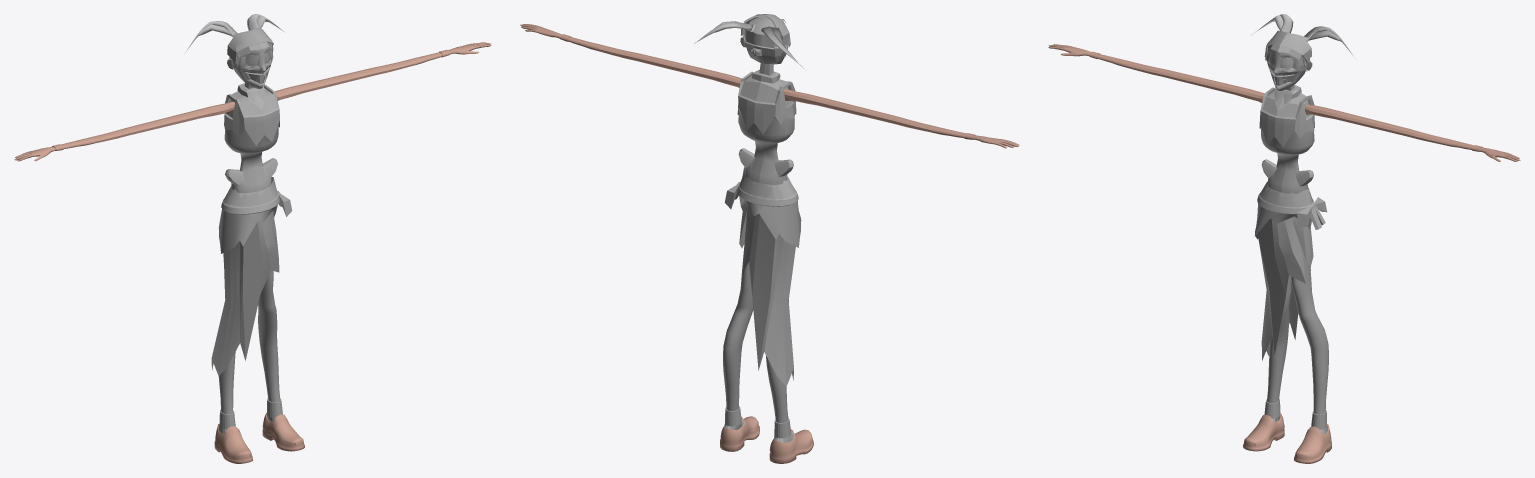
The model's file is MissC_Mixamo.fbx.
The picture shows the model from 3 angles, left to right: view 1: azimuth 30°, elevation 25°; view 2: azimuth 150°, elevation 25°; view 3: azimuth 330°, elevation 25°; orthographic projection. The views are drawn at different scales.
Parts seen in each view (by area): view 1: skirt, torso2, leftleg, head1, leftjhand1, leftjhand, MensBusinessShoes:shoeL, shoeR, rightleg; view 2: skirt, torso2, leftleg, leftjhand1, leftjhand, head1, rightleg, shoeR, MensBusinessShoes:shoeL; view 3: skirt, torso2, leftleg, head1, leftjhand, leftjhand1, rightleg, shoeR, MensBusinessShoes:shoeL.
Boxes of the visible parts, x1,y1,x2,y2 form: skirt: (211,177,292,376); torso2: (223,83,279,207); leftleg: (258,270,282,421); head1: (227,28,273,88); leftjhand1: (14,101,234,161); leftjhand: (275,42,491,100); MensBusinessShoes:shoeL: (262,413,304,451); shoeR: (214,423,252,463); rightleg: (218,351,235,434); skirt: (724,167,801,386); torso2: (737,63,796,198); leftleg: (723,247,753,429); leftjhand1: (783,89,1019,148); leftjhand: (520,24,741,87); head1: (740,14,790,64); rightleg: (766,356,793,442); shoeR: (769,429,813,463); MensBusinessShoes:shoeL: (720,416,759,451); skirt: (1254,181,1327,360); torso2: (1259,85,1314,202); leftleg: (1291,226,1328,434); head1: (1264,30,1312,90); leftjhand: (1304,104,1520,161); leftjhand1: (1048,44,1264,102); rightleg: (1264,275,1291,422); shoeR: (1243,413,1284,451); MensBusinessShoes:shoeL: (1294,424,1331,463).
Size of the model in its own units: 28.53 by 23.88 by 4.
